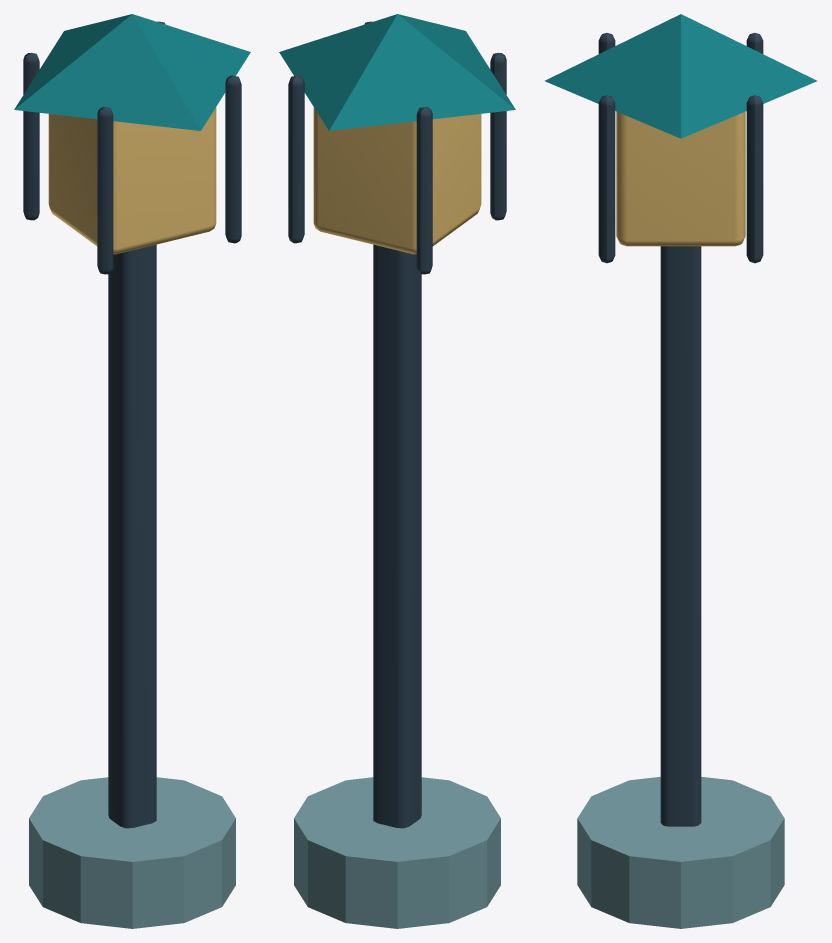
The model's file is HarborLamp.fbx.
3 views of the same model, side by side, from view 1: azimuth 30°, elevation 25°; view 2: azimuth 150°, elevation 25°; view 3: azimuth 270°, elevation 25° (orthographic).
Visible parts, largest first — view 1: HarborLamp_Static; view 2: HarborLamp_Static; view 3: HarborLamp_Static.
Part boxes in pixels (bbox=[...]): HarborLamp_Static: bbox=[14, 14, 250, 928]; HarborLamp_Static: bbox=[279, 14, 515, 928]; HarborLamp_Static: bbox=[545, 14, 816, 928].
Bounding box in the file's own units: 0.74 × 2.6 × 0.74.
1 material, 1 textured.
